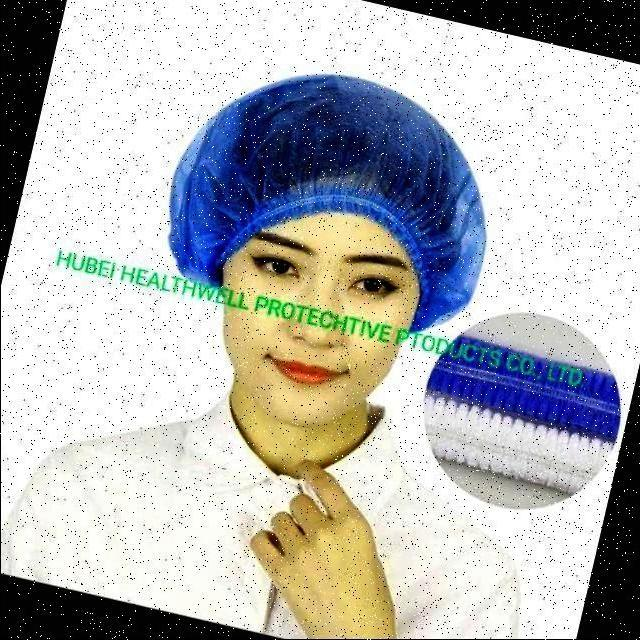no_apron: (247, 458, 400, 640)
no_hairnet: (253, 280, 375, 404)
